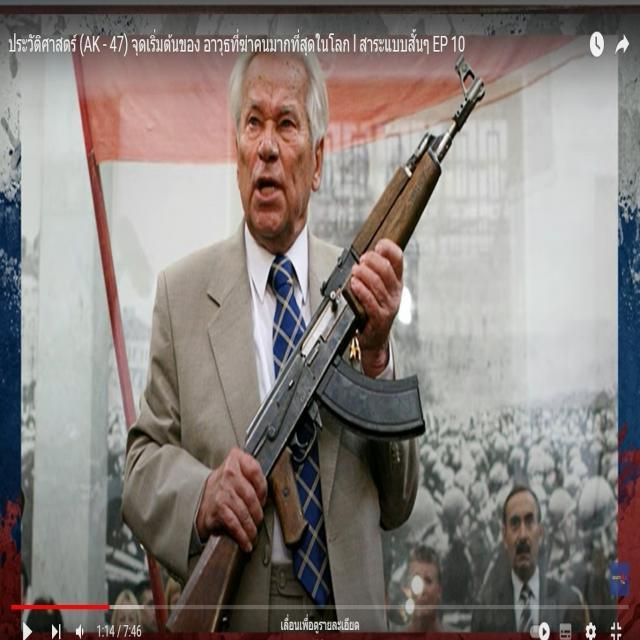ak: (169, 56, 486, 631)
